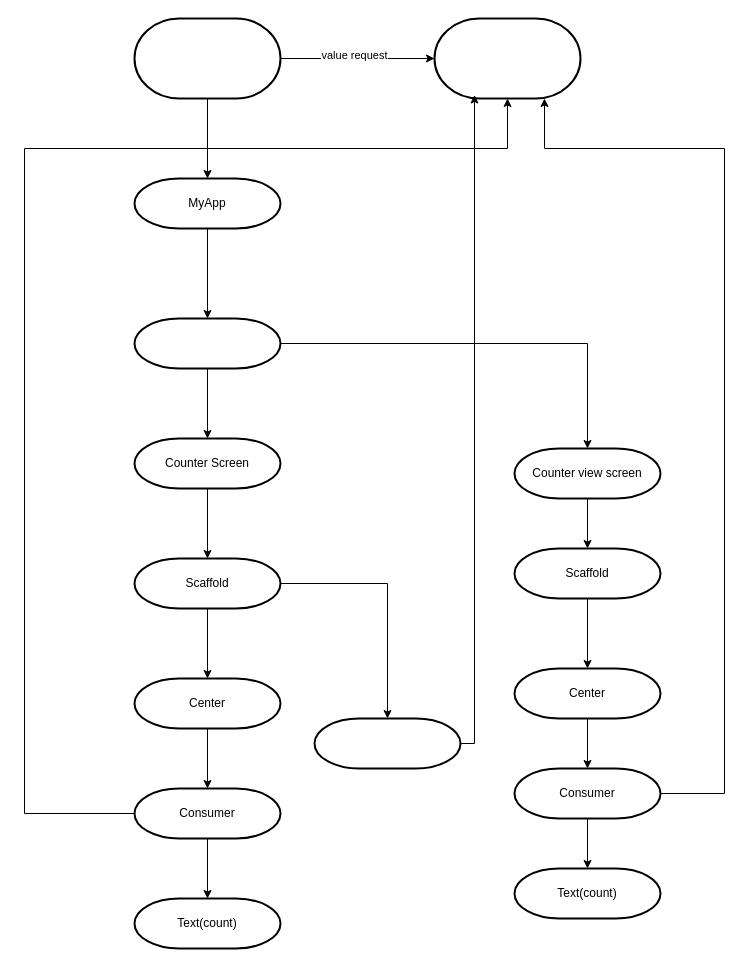
Some shapes in this 750 by 966 pixel diagram are drawn without their labels. Each missing label, with the centre of its shape:
Counter Provider count = 0: pixel 207 58
FloatingActionButton (increment value): pixel 387 743
Material App: pixel 207 343
Provider: pixel 507 58
